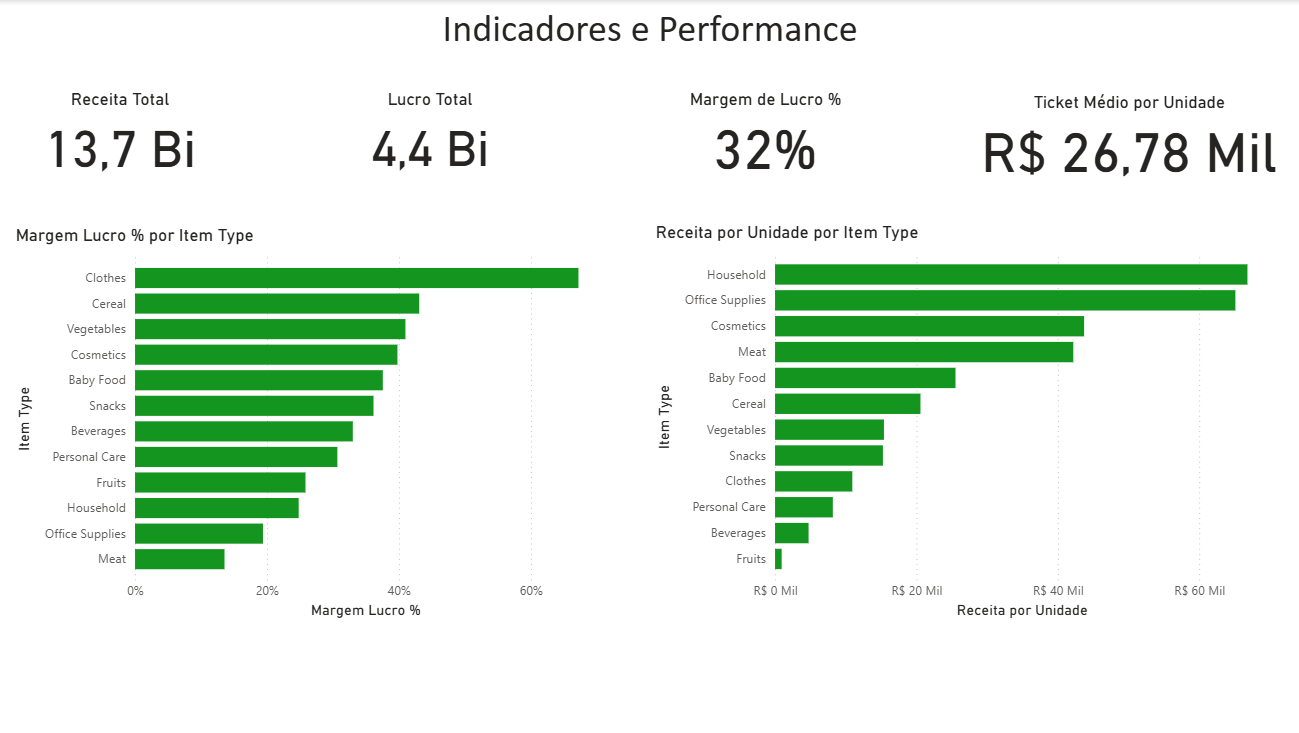

The page's visual inventory and layout, read from the dashboard file:
{"tool":"powerbi","page":{"name":"Indicadores e Performance","canvas":[1280,720],"ordinal":3},"visuals":[{"type":"textbox","box":[244.6,0,788.7,75.8],"z":0},{"type":"barChart","fields":{"Category":["100 Sales Records.Item Type"],"Y":["100 Sales Records.Margem Lucro %"]},"box":[13.5,220.1,590.6,390.1],"z":1000},{"type":"barChart","fields":{"Y":["100 Sales Records.Receita por Unidade"],"Category":["100 Sales Records.Item Type"]},"box":[639.5,216.4,635.9,393.8],"z":2000},{"type":"card","title":"Receita Total","fields":{"Values":["Sum(100 Sales Records.Total Revenue)"]},"box":[37.9,86.8,165.1,86.8],"z":3000},{"type":"card","title":"Lucro Total","fields":{"Values":["Sum(100 Sales Records.Total Profit)"]},"box":[333.8,86.8,179.8,86.8],"z":4000},{"type":"card","title":"Margem de Lucro %","fields":{"Values":["100 Sales Records.Margem Lucro %"]},"box":[667.7,86.8,168.8,86.8],"z":5000},{"type":"card","title":"Ticket Médio por Unidade ","fields":{"Values":["100 Sales Records.Receita por Unidade"]},"box":[957.5,89.3,300.8,88],"z":6000}]}

Visuals, with their boxes in screenshot pixels (x1, y1, x2, y2), scaled from the page's 1280x720 canvas onto the 1299x733 screenshot:
textbox: [248, 0, 1049, 77]
barChart - 100 Sales Records.Item Type x 100 Sales Records.Margem Lucro %: [14, 224, 613, 621]
barChart - 100 Sales Records.Receita por Unidade x 100 Sales Records.Item Type: [649, 220, 1294, 621]
"Receita Total" card: [38, 88, 206, 177]
"Lucro Total" card: [339, 88, 521, 177]
"Margem de Lucro %" card: [678, 88, 849, 177]
"Ticket Médio por Unidade " card: [972, 91, 1277, 181]
